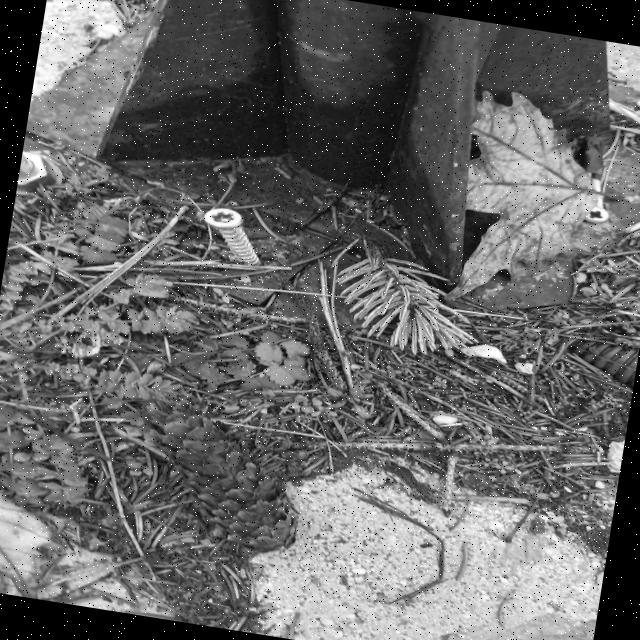Torx: (203, 206, 243, 230)
